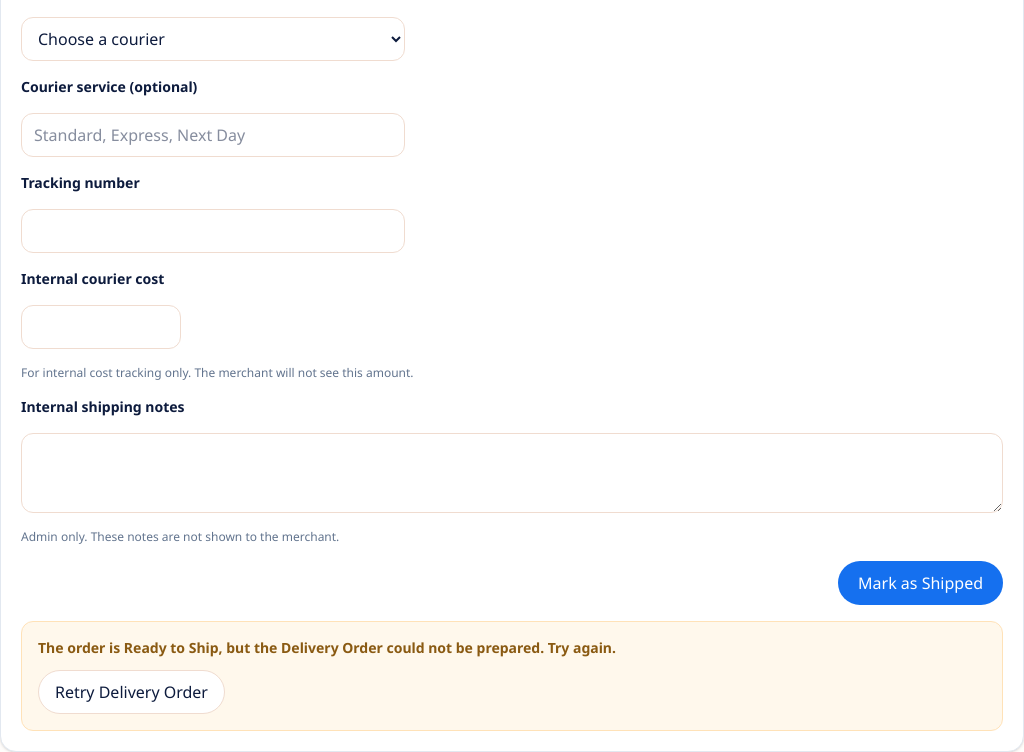
Ready to Ship › retrying prepares the delivery note and clears the warning
(page scrolled)
What coordinates should you click on to do the following:
click the button with test id "retry-delivery-order"
I would click on:
 (132, 692)
Its box is top-left (38, 670), bottom-right (225, 714).
(page scrolled)
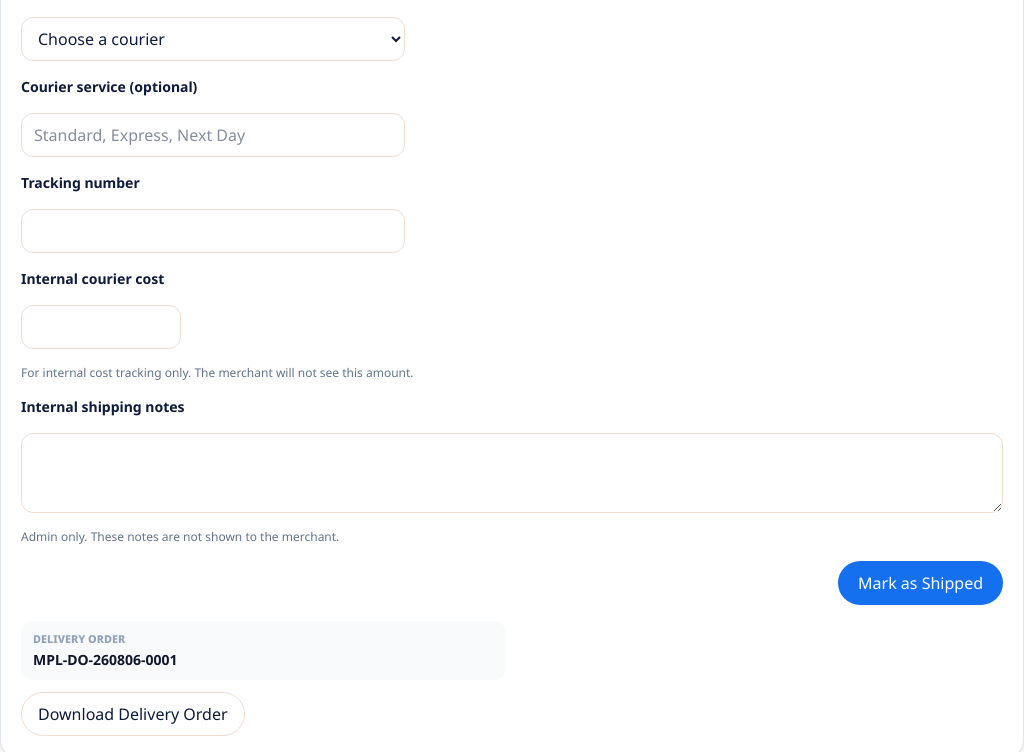
Expected: the text with test id "delivery-order-number" reads "MPL-DO-260806-0001", top-left (33, 650), bottom-right (178, 669)
